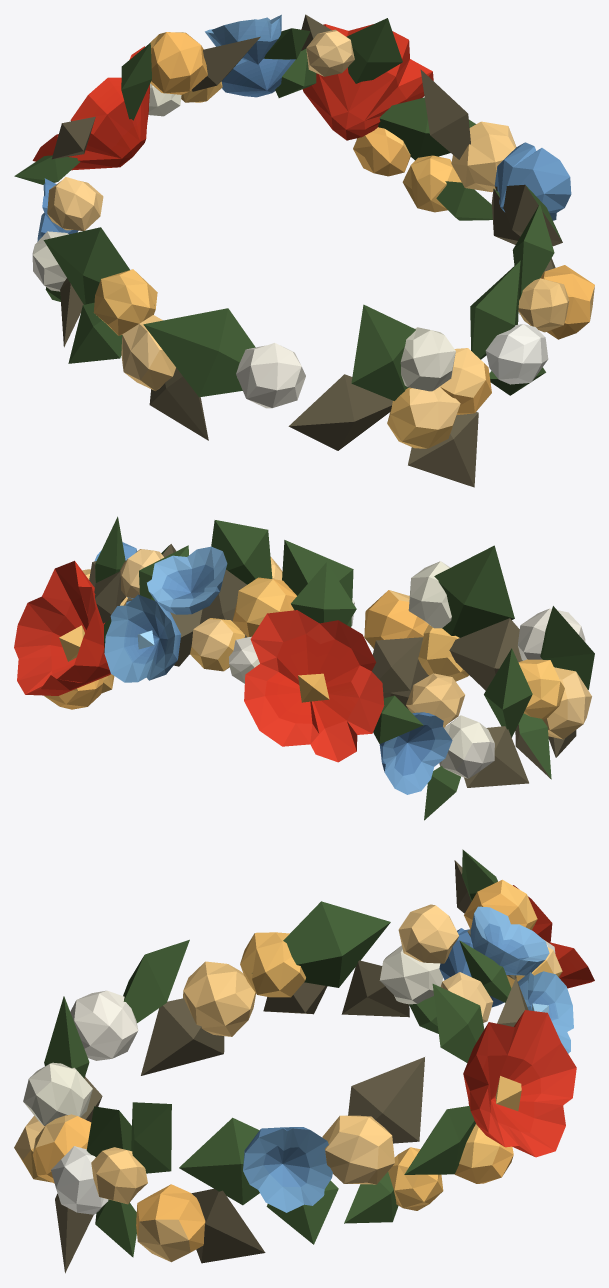
File: CharSkyKid_Hat_AP24Wreath.glb
The picture shows the model from 3 angles, top to bottom: view 1: azimuth 30°, elevation 25°; view 2: azimuth 150°, elevation 25°; view 3: azimuth 270°, elevation 25°; orthographic projection. The views are drawn at different scales.
Parts seen in each view (by area): view 1: CharSkyKid_Hat_AP24Wreath; view 2: CharSkyKid_Hat_AP24Wreath; view 3: CharSkyKid_Hat_AP24Wreath.
Boxes of the visible parts, x1,y1,x2,y2 form: CharSkyKid_Hat_AP24Wreath: (14,14,594,487); CharSkyKid_Hat_AP24Wreath: (14,516,594,820); CharSkyKid_Hat_AP24Wreath: (14,849,594,1273).
Bounding box in the file's own units: 3.63 × 2.49 × 3.68.
Materials: 1 (1 with a texture image).
